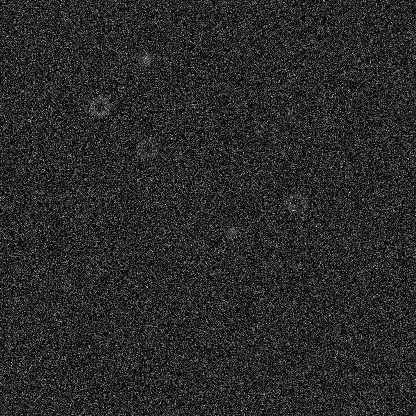Ring: (284, 190, 308, 214), (134, 136, 158, 160), (87, 94, 111, 118)
Spot: (274, 223, 290, 239), (224, 224, 240, 240), (137, 50, 153, 66)
